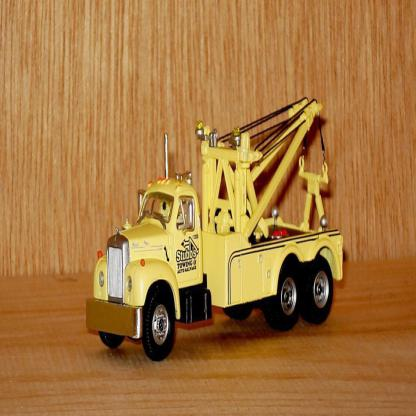Truck: (90, 116, 336, 363)
